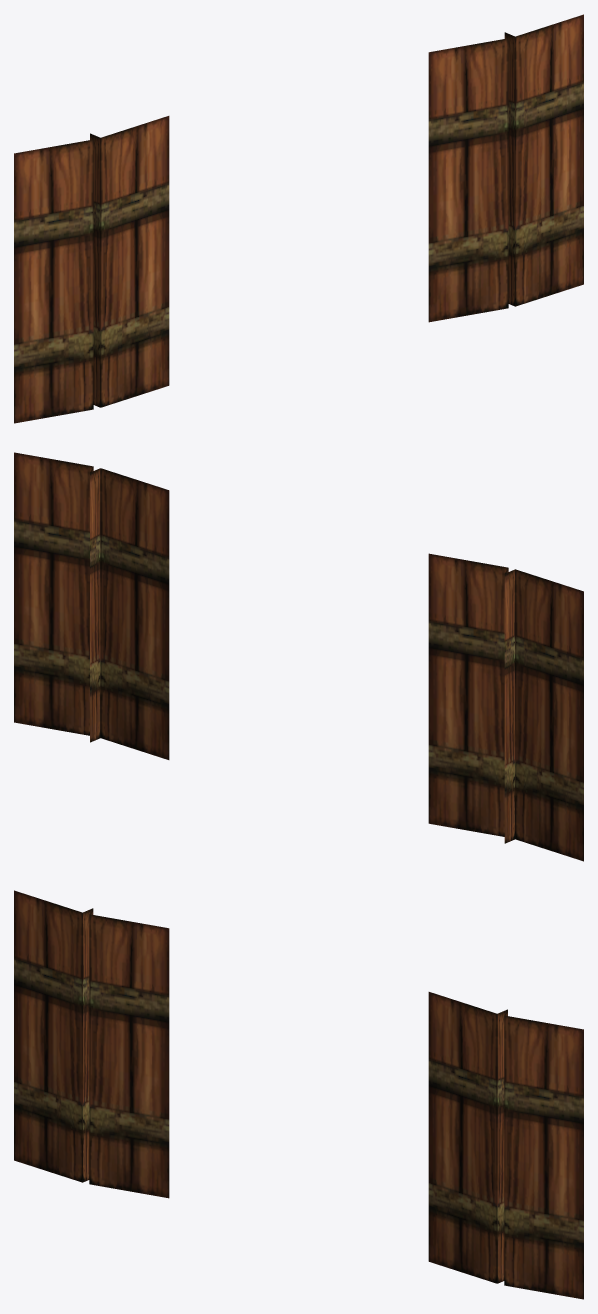
Rendered from LAKETOWN_EXTERIOR_PS_LT_SHUTTERS153.fbx.
The picture shows the model from 3 angles, top to bottom: view 1: azimuth 30°, elevation 25°; view 2: azimuth 150°, elevation 25°; view 3: azimuth 330°, elevation 25°; orthographic projection.
Visible parts, largest first — view 1: LAKETOWN_EXTERIOR_PS_LT_SHUTTERS153; view 2: LAKETOWN_EXTERIOR_PS_LT_SHUTTERS153; view 3: LAKETOWN_EXTERIOR_PS_LT_SHUTTERS153.
Part boxes in pixels (bbox=[...]): LAKETOWN_EXTERIOR_PS_LT_SHUTTERS153: bbox=[14, 14, 583, 423]; LAKETOWN_EXTERIOR_PS_LT_SHUTTERS153: bbox=[14, 452, 583, 861]; LAKETOWN_EXTERIOR_PS_LT_SHUTTERS153: bbox=[14, 890, 583, 1299].
Size of the model in its own units: 32782 by 14842 by 730.
Materials: 1 (1 with a texture image).
